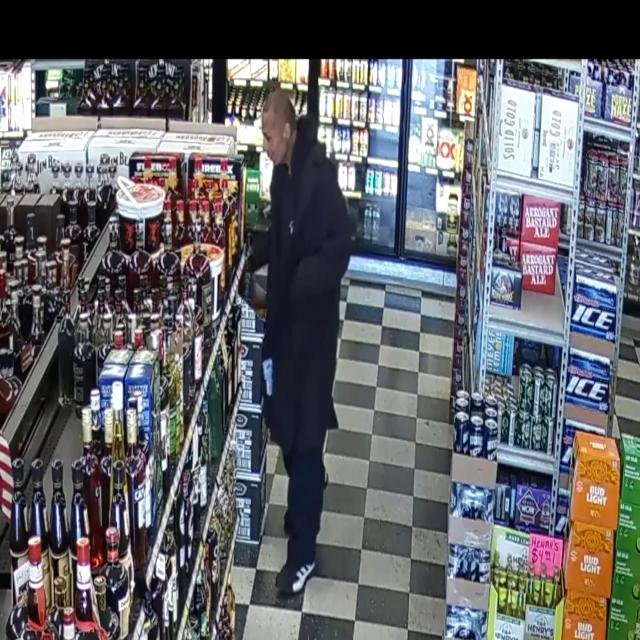normal: (203, 67, 359, 579)
